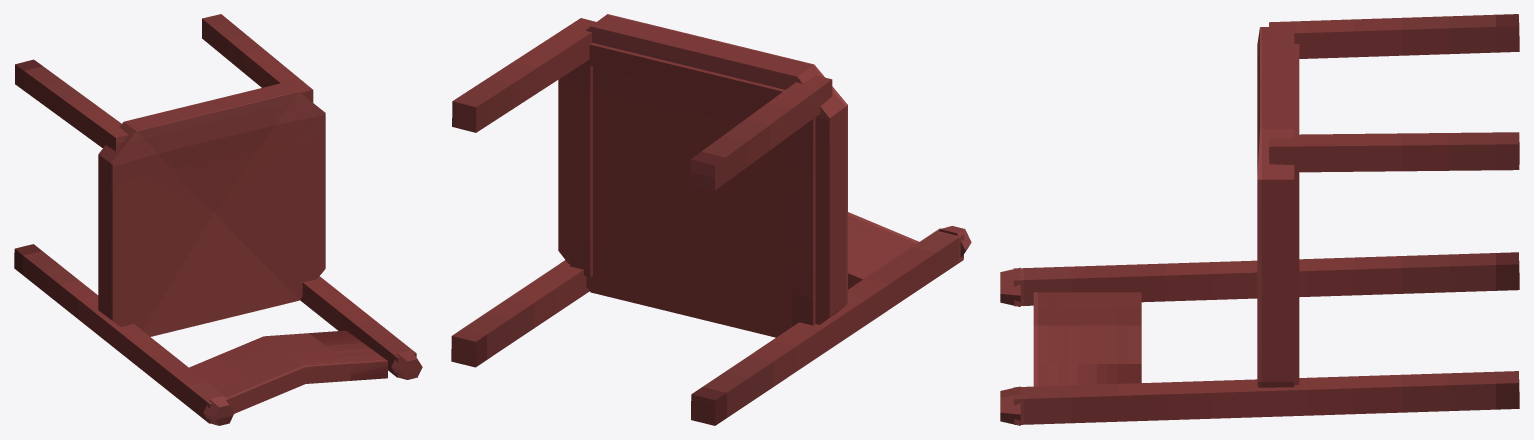
The model's file is pz_chair_seating_indoor_02_red_wooden_fidelity_r1.obj.
3 views of the same model, side by side, from view 1: azimuth 30°, elevation 25°; view 2: azimuth 150°, elevation 25°; view 3: azimuth 270°, elevation 25° (orthographic). The views are drawn at different scales.
Visible parts, largest first — view 1: seat, wood, back; view 2: seat, wood, back; view 3: wood, seat, back.
Part boxes in pixels (x1,y1,x2,y2): seat: [98, 82, 325, 336]; wood: [14, 14, 422, 425]; back: [189, 330, 387, 413]; seat: [558, 14, 847, 337]; wood: [451, 18, 971, 425]; back: [848, 212, 918, 289]; wood: [1000, 14, 1519, 425]; seat: [1257, 27, 1294, 387]; back: [1033, 292, 1141, 386].
Size of the model in its own units: 0.5066 by 0.5024 by 0.8204.
Materials: 1 (1 with a texture image).
